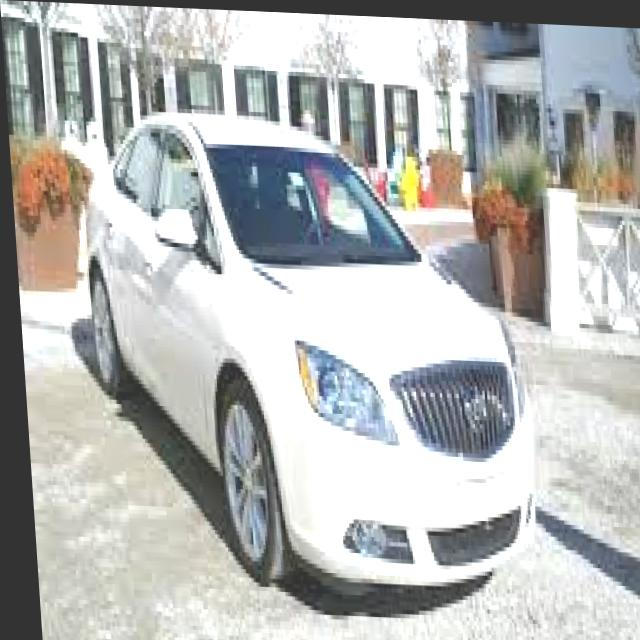car: (59, 90, 550, 599)
